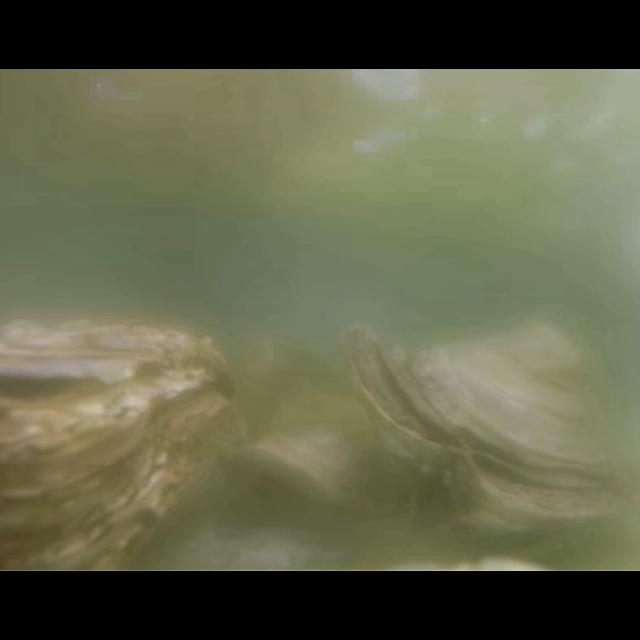Oyster-Closed: (338, 322, 640, 540), (0, 320, 246, 570), (236, 391, 386, 514)
